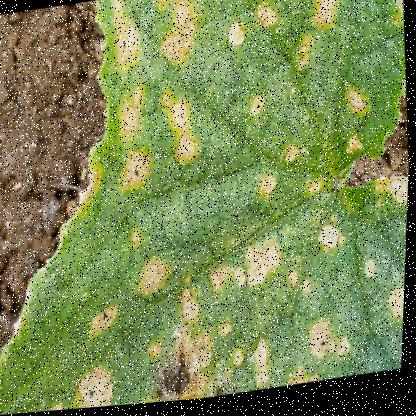Anthracnose: (62, 170, 409, 410), (98, 0, 387, 192)
